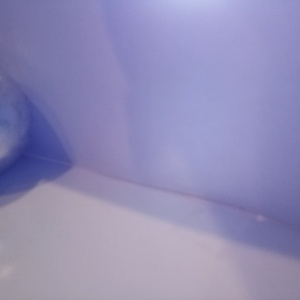alive_ball: (1, 68, 33, 174)
